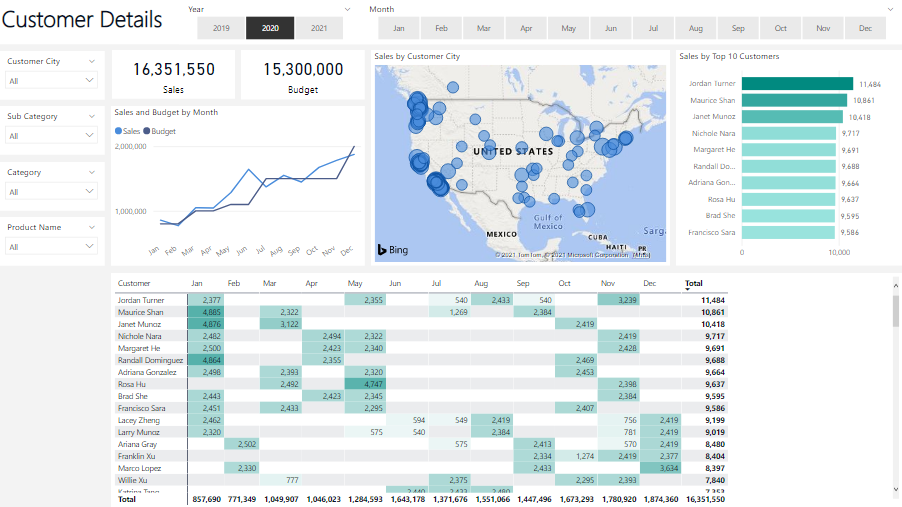

The dashboard page shown, as its layout file describes it:
{"tool":"powerbi","page":{"name":"Customer Details","canvas":[1280,720],"ordinal":1},"visuals":[{"type":"textbox","box":[0,0,1280,64],"z":0},{"type":"slicer","fields":{"Values":["DIM_Calendar.Year"]},"box":[256,0,256,64],"z":1000},{"type":"slicer","fields":{"Values":["DIM_Calendar.MonthShort"]},"box":[512,0,768,64],"z":2000},{"type":"slicer","fields":{"Values":["DIM_Customers.Customer City"]},"box":[0,73,150.5,69.3],"z":3000},{"type":"slicer","fields":{"Values":["DIM_Products.Product Category"]},"box":[0,229.9,150.5,69.3],"z":4000},{"type":"slicer","fields":{"Values":["DIM_Products.Product Name"]},"box":[0,308.4,150.5,69.3],"z":5000},{"type":"slicer","fields":{"Values":["DIM_Products.Sub Category"]},"box":[0,151.4,150.5,69.3],"z":6000},{"type":"card","fields":{"Values":["Analysis Metrics.Sales"]},"box":[160.7,72.8,174,69.2],"z":8000},{"type":"map","fields":{"Category":["DIM_Customers.Customer City"],"Size":["Analysis Metrics.Sales"]},"box":[527.3,72.8,423.5,304.5],"z":9000},{"type":"card","fields":{"Values":["Analysis Metrics.Budget"]},"box":[343.6,72.8,174.9,70.1],"z":10000},{"type":"pivotTable","fields":{"Rows":["DIM_Customers.Full Name"],"Columns":["DIM_Calendar.MonthShort"],"Values":["Analysis Metrics.Sales"]},"box":[159.8,387.1,1120.4,332.9],"z":11000},{"type":"lineChart","fields":{"Category":["DIM_Calendar.MonthShort"],"Y":["Analysis Metrics.Sales","Analysis Metrics.Budget"]},"box":[161.3,151.4,357.9,224.9],"z":12001},{"type":"barChart","title":"Sales by Top 10 Customers","fields":{"Category":["DIM_Customers.Full Name"],"Y":["Analysis Metrics.Sales"]},"box":[959.1,73.6,321.1,302.7],"z":12002}]}

Visuals, with their boxes in screenshot pixels (x1, y1, x2, y2), scaled from the page's 1280x720 canvas onto the 902x507 screenshot:
textbox: x1=0, y1=0, x2=901, y2=45
slicer - DIM_Calendar.Year: x1=180, y1=0, x2=361, y2=45
slicer - DIM_Calendar.MonthShort: x1=361, y1=0, x2=901, y2=45
slicer - DIM_Customers.Customer City: x1=0, y1=51, x2=106, y2=100
slicer - DIM_Products.Product Category: x1=0, y1=162, x2=106, y2=211
slicer - DIM_Products.Product Name: x1=0, y1=217, x2=106, y2=266
slicer - DIM_Products.Sub Category: x1=0, y1=107, x2=106, y2=155
card - Analysis Metrics.Sales: x1=113, y1=51, x2=236, y2=100
map - DIM_Customers.Customer City x Analysis Metrics.Sales: x1=372, y1=51, x2=670, y2=266
card - Analysis Metrics.Budget: x1=242, y1=51, x2=365, y2=101
pivotTable - DIM_Customers.Full Name x DIM_Calendar.MonthShort: x1=113, y1=273, x2=901, y2=506
lineChart - DIM_Calendar.MonthShort x Analysis Metrics.Sales: x1=114, y1=107, x2=366, y2=265
"Sales by Top 10 Customers" barChart: x1=676, y1=52, x2=901, y2=265
